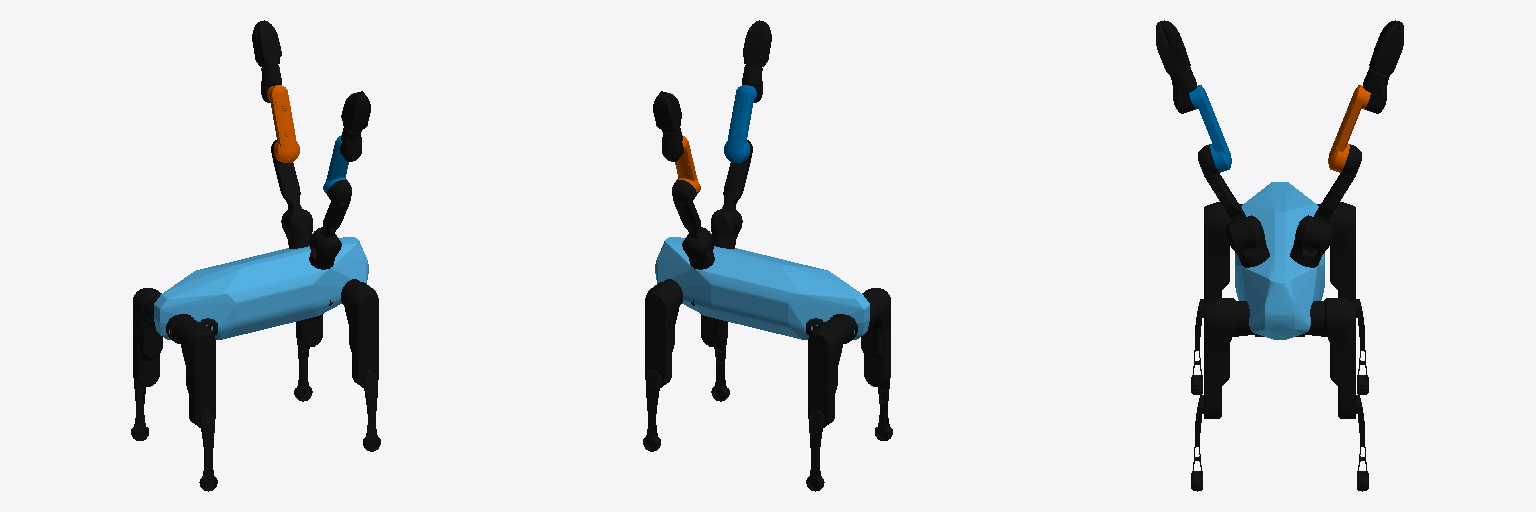
--- Render facts (derived) ---
3 views of the same robot in one strip: view 1: azimuth 30°, elevation 25°; view 2: azimuth 150°, elevation 25°; view 3: azimuth 270°, elevation 25° (orthographic).
Robot: kyon — 34 links, 33 joints (24 revolute, 8 fixed, 1 floating); root link world; default pose: every joint at zero.
Links seen in each view (by area): view 1: pelvis, hip_pitch_4_link, hip_pitch_2_link, hip_pitch_3_link, elbow_pitch_1_link, shoulder_pitch_2_link, shoulder_pitch_1_link, knee_pitch_4_link, knee_pitch_2_link, shoulder_yaw_1_link, shoulder_yaw_2_link, dagana_2_base (+5 smaller); view 2: pelvis, hip_pitch_3_link, hip_pitch_1_link, hip_pitch_4_link, elbow_pitch_2_link, shoulder_pitch_1_link, shoulder_pitch_2_link, knee_pitch_3_link, knee_pitch_1_link, shoulder_yaw_2_link, dagana_1_base, shoulder_yaw_1_link (+5 smaller); view 3: pelvis, hip_pitch_1_link, hip_pitch_2_link, hip_pitch_3_link, hip_pitch_4_link, shoulder_pitch_1_link, shoulder_pitch_2_link, elbow_pitch_1_link, elbow_pitch_2_link, shoulder_yaw_2_link, shoulder_yaw_1_link, dagana_2_base (+9 smaller).
Link boxes in pixels (box(x1,y1,x2,y2)): pelvis: box(154, 237, 368, 339); hip_pitch_4_link: box(172, 316, 215, 427); hip_pitch_2_link: box(341, 279, 378, 387); hip_pitch_3_link: box(133, 288, 162, 386); elbow_pitch_1_link: box(267, 85, 299, 162); shoulder_pitch_2_link: box(311, 180, 351, 251); shoulder_pitch_1_link: box(271, 140, 301, 233); knee_pitch_4_link: box(199, 410, 217, 491); knee_pitch_2_link: box(363, 370, 380, 451); shoulder_yaw_1_link: box(281, 209, 312, 248); shoulder_yaw_2_link: box(309, 227, 341, 269); dagana_2_base: box(343, 93, 370, 132); pelvis: box(655, 237, 869, 339); hip_pitch_3_link: box(808, 316, 851, 427); hip_pitch_1_link: box(645, 279, 682, 387); hip_pitch_4_link: box(861, 288, 890, 386); elbow_pitch_2_link: box(724, 85, 756, 162); shoulder_pitch_1_link: box(672, 180, 712, 251); shoulder_pitch_2_link: box(722, 140, 752, 233); knee_pitch_3_link: box(806, 410, 824, 491); knee_pitch_1_link: box(643, 370, 660, 451); shoulder_yaw_2_link: box(711, 209, 742, 248); dagana_1_base: box(653, 93, 680, 132); shoulder_yaw_1_link: box(682, 227, 714, 269); pelvis: box(1235, 182, 1324, 339); hip_pitch_1_link: box(1305, 298, 1355, 418); hip_pitch_2_link: box(1204, 298, 1254, 418); hip_pitch_3_link: box(1317, 202, 1355, 302); hip_pitch_4_link: box(1204, 202, 1242, 302); shoulder_pitch_1_link: box(1304, 144, 1361, 250); shoulder_pitch_2_link: box(1198, 144, 1255, 250); elbow_pitch_1_link: box(1328, 85, 1370, 172); elbow_pitch_2_link: box(1189, 85, 1231, 172); shoulder_yaw_2_link: box(1226, 215, 1269, 267); shoulder_yaw_1_link: box(1290, 215, 1333, 267); dagana_2_base: box(1156, 21, 1190, 74).
Bounding box of the posed robot: 1.04 × 0.8987 × 1.8 m (x, y, z).
27 mesh visuals loaded from 11 distinct referenced files (11 binary STL).

The robot description file, URDF, robot "kyon":
<?xml version="1.0" ?>
<robot name="kyon" version="1.0">
  <material name="black">
    <color rgba="0.4 0.4 0.4 1.0"/>
  </material>
  <material name="dark_grey">
    <color rgba="0.1 0.1 0.1 1.0"/>
  </material>
  <link name="base_link"/>
  <link name="pelvis">
    <inertial>
      <origin xyz="0.04972368 0.0022995169 0.058657543" rpy="0 0 0"/>
      <mass value="23.024083"/>
      <inertia ixx="0.25825843" ixy="-0.0015196886" ixz="-0.074270479" iyy="1.2128223" iyz="0.0039226759" izz="1.1693352"/>
    </inertial>
    <visual>
      <origin xyz="0.0 0.0 0.0" rpy="0.0 0.0 0.0"/>
      <geometry>
        <mesh filename="package://kyon_urdf/meshes/mesh_pelvis.stl" scale="0.001 0.001 0.001"/>
      </geometry>
    </visual>
    <collision>
      <origin xyz="0.036495 -9.9371885e-12 0.046774" rpy="1.5707938937123678 1.57079632676973 1.5707938936872012"/>
      <geometry>
        <cylinder radius="0.1724" length="0.749376"/>
      </geometry>
    </collision>
    <collision>
      <origin xyz="-0.338193 -0.000000 0.046774" rpy="1.5707938937123678 1.57079632676973 1.5707938936872012"/>
      <geometry>
        <sphere radius="0.1724"/>
      </geometry>
    </collision>
    <collision>
      <origin xyz="0.411183 -0.000000 0.046774" rpy="1.5707938937123678 1.57079632676973 1.5707938936872012"/>
      <geometry>
        <sphere radius="0.1724"/>
      </geometry>
    </collision>
  </link>
  <joint name="base_joint" type="fixed">
    <origin xyz="0.0 0.0 0.0" rpy="0.0 0.0 0.0"/>
    <parent link="pelvis"/>
    <child link="base_link"/>
  </joint>
  <link name="imu_link"/>
  <joint name="imu_joint" type="fixed">
    <parent link="pelvis"/>
    <child link="imu_link"/>
  </joint>
  <link name="shoulder_yaw_1_link">
    <inertial>
      <origin xyz="0.0 -0.00013492411000000002 0.040858984" rpy="0 0 0"/>
      <mass value="0.67826074"/>
      <inertia ixx="0.0025001498999999996" ixy="-6.3655528e-07" ixz="1.7271058999999999e-07" iyy="0.0019131558999999998" iyz="-6.5053652e-05" izz="0.0019311455"/>
    </inertial>
    <visual>
      <origin xyz="0.0 0.0 0.0" rpy="0.0 0.0 0.0"/>
      <geometry>
        <mesh filename="package://kyon_urdf/meshes/mesh_sh-yaw.stl" scale="0.001 0.001 0.001"/>
      </geometry>
      <material name="dark_grey"/>
    </visual>
    <collision>
      <origin xyz="-5.492399499999999e-07 4.861649999999999e-07 0.04019508" rpy="-4.947440300471886e-05 -1.7225007626453456e-05 4.260984722894379e-10"/>
      <geometry>
        <cylinder radius="0.0700029" length="0.06680404009166907"/>
      </geometry>
    </collision>
    <collision>
      <origin xyz="0.000000 -0.000001 0.006793" rpy="-4.947440300471886e-05 -1.7225007626453456e-05 4.260984722894379e-10"/>
      <geometry>
        <sphere radius="0.0700029"/>
      </geometry>
    </collision>
    <collision>
      <origin xyz="-0.000001 0.000002 0.073597" rpy="-4.947440300471886e-05 -1.7225007626453456e-05 4.260984722894379e-10"/>
      <geometry>
        <sphere radius="0.0700029"/>
      </geometry>
    </collision>
  </link>
  <link name="shoulder_pitch_1_link">
    <inertial>
      <origin xyz="-8.821274800000001e-06 -0.14226587000000002 -0.0040603042" rpy="0 0 0"/>
      <mass value="2.6591536"/>
      <inertia ixx="0.059933923" ixy="0.00010630782" ixz="-8.1788344e-06" iyy="0.0032807638999999998" iyz="-0.001092533" izz="0.059801167999999995"/>
    </inertial>
    <visual>
      <geometry>
        <mesh filename="package://kyon_urdf/meshes/mesh_sh-pitch.stl" scale="0.001 0.001 0.001"/>
      </geometry>
      <material name="dark_grey"/>
    </visual>
    <collision>
      <origin xyz="-0.0001338083 -0.16096802 -0.0150617865" rpy="-1.4774154254758183 0.0007278208153013942 -0.0006628428816718759"/>
      <geometry>
        <cylinder radius="0.0630719" length="0.3306767492610326"/>
      </geometry>
    </collision>
    <collision>
      <origin xyz="-0.000254 -0.325586 -0.030479" rpy="-1.4774154254758183 0.0007278208153013942 -0.0006628428816718759"/>
      <geometry>
        <sphere radius="0.0630719"/>
      </geometry>
    </collision>
    <collision>
      <origin xyz="-0.000013 0.003650 0.000355" rpy="-1.4774154254758183 0.0007278208153013942 -0.0006628428816718759"/>
      <geometry>
        <sphere radius="0.0630719"/>
      </geometry>
    </collision>
  </link>
  <link name="elbow_pitch_1_link">
    <inertial>
      <origin xyz="-0.00032761312 -0.16511035000000002 0.022799378000000002" rpy="0 0 0"/>
      <mass value="1.048477"/>
      <inertia ixx="0.01112601" ixy="1.7724864e-05" ixz="6.0670899e-06" iyy="0.00095730481" iyz="-0.0010167295" izz="0.011293245999999998"/>
    </inertial>
    <visual>
      <geometry>
        <mesh filename="package://kyon_urdf/meshes/mesh_elbow.stl" scale="0.001 0.001 0.001"/>
      </geometry>
    </visual>
    <collision>
      <origin xyz="-2.68263705e-05 -0.1179632115 0.0225949" rpy="-1.5990064958055321 0.00022367745177041834 -0.00023007813712669646"/>
      <geometry>
        <cylinder radius="0.0581584" length="0.23685382242349062"/>
      </geometry>
    </collision>
    <collision>
      <origin xyz="-0.000053 -0.236343 0.025935" rpy="-1.5990064958055321 0.00022367745177041834 -0.00023007813712669646"/>
      <geometry>
        <sphere radius="0.0581584"/>
      </geometry>
    </collision>
    <collision>
      <origin xyz="-0.000000 0.000417 0.019255" rpy="-1.5990064958055321 0.00022367745177041834 -0.00023007813712669646"/>
      <geometry>
        <sphere radius="0.0581584"/>
      </geometry>
    </collision>
  </link>
  <link name="wrist_pitch_1_link">
    <inertial>
      <origin xyz="-0.00035889305999999997 -0.056046555 -0.010441123" rpy="0 0 0"/>
      <mass value="0.8276976"/>
      <inertia ixx="0.001897925" ixy="1.5812979999999998e-05" ixz="-8.8320155e-06" iyy="0.0007269340299999999" iyz="0.00044823507999999996" izz="0.0018533680999999998"/>
    </inertial>
    <visual>
      <origin xyz="0.0 0.0 0.0" rpy="0.0 0.0 0.0"/>
      <geometry>
        <mesh filename="package://kyon_urdf/meshes/mesh_wrist-pitch.stl" scale="0.001 0.001 0.001"/>
      </geometry>
      <material name="dark_grey"/>
    </visual>
    <collision>
      <origin xyz="-0.000373288 -0.030631244999999998 -0.016904745000000002" rpy="-1.98241981064189 0.012883685622594544 -0.01968208172315333"/>
      <geometry>
        <cylinder radius="0.0522867" length="0.07557658310998112"/>
      </geometry>
    </collision>
    <collision>
      <origin xyz="-0.000860 -0.065260 -0.001787" rpy="-1.98241981064189 0.012883685622594544 -0.01968208172315333"/>
      <geometry>
        <sphere radius="0.0522867"/>
      </geometry>
    </collision>
    <collision>
      <origin xyz="0.000114 0.003998 -0.032023" rpy="-1.98241981064189 0.012883685622594544 -0.01968208172315333"/>
      <geometry>
        <sphere radius="0.0522867"/>
      </geometry>
    </collision>
  </link>
  <link name="wrist_yaw_1_link">
    <inertial>
      <origin xyz="0.0 -1.8381848999999998e-05 -0.016592053" rpy="0 0 0"/>
      <mass value="0.11855953"/>
      <inertia ixx="7.048152500000001e-05" ixy="-1.3031027e-07" ixz="0.0" iyy="7.3847541e-05" iyz="-2.5372644999999998e-08" izz="0.00011802904"/>
    </inertial>
    <visual>
      <origin xyz="0.0 0.0 0.0" rpy="0.0 0.0 0.0"/>
      <geometry>
        <mesh filename="package://kyon_urdf/meshes/mesh_wrist-yaw.stl" scale="0.001 0.001 0.001"/>
      </geometry>
      <material name="dark_grey"/>
    </visual>
    <collision>
      <origin xyz="1.3702194349999999e-08 4.8836499999999985e-06 -0.025233600000000002" rpy="-0.5623737361912293 -0.0001795536403534608 5.186223272198067e-05"/>
      <geometry>
        <cylinder radius="0.0436334" length="0.00015248374465266922"/>
      </geometry>
    </collision>
    <collision>
      <origin xyz="0.000000 -0.000036 -0.025298" rpy="-0.5623737361912293 -0.0001795536403534608 5.186223272198067e-05"/>
      <geometry>
        <sphere radius="0.0436334"/>
      </geometry>
    </collision>
    <collision>
      <origin xyz="0.000000 0.000046 -0.025169" rpy="-0.5623737361912293 -0.0001795536403534608 5.186223272198067e-05"/>
      <geometry>
        <sphere radius="0.0436334"/>
      </geometry>
    </collision>
  </link>
  <joint name="shoulder_yaw_1" type="revolute">
    <origin xyz="0.28 0.0998258 0.203238" rpy="-0.3490656 0.0 0.0"/>
    <axis xyz="0.0 0.0 1.0"/>
    <parent link="pelvis"/>
    <child link="shoulder_yaw_1_link"/>
    <limit effort="132.0" lower="-3.312" upper="3.312" velocity="15.5"/>
  </joint>
  <joint name="shoulder_pitch_1" type="revolute">
    <origin xyz="0.0 0.0 0.0735" rpy="-1.57079632679 0.0 -3.14159265358"/>
    <axis xyz="0.0 0.0 1.0"/>
    <parent link="shoulder_yaw_1_link"/>
    <child link="shoulder_pitch_1_link"/>
    <limit effort="132.0" lower="-3.0" upper="3.0" velocity="15.5"/>
  </joint>
  <joint name="elbow_pitch_1" type="revolute">
    <origin xyz="0.0 -0.32 0.0" rpy="0.0 0.0 0.0"/>
    <axis xyz="0.0 0.0 1.0"/>
    <parent link="shoulder_pitch_1_link"/>
    <child link="elbow_pitch_1_link"/>
    <limit effort="132.0" lower="-3.0" upper="3.0" velocity="15.5"/>
  </joint>
  <joint name="wrist_pitch_1" type="revolute">
    <origin xyz="0.0 -0.25 0.0" rpy="0.0 0.0 0.0"/>
    <axis xyz="0.0 0.0 1.0"/>
    <parent link="elbow_pitch_1_link"/>
    <child link="wrist_pitch_1_link"/>
    <limit effort="132.0" lower="-2.4056" upper="2.4056" velocity="15.5"/>
  </joint>
  <joint name="wrist_yaw_1" type="revolute">
    <origin xyz="0.0 -0.134862 0.0" rpy="1.57079632679 0.0 0.0"/>
    <axis xyz="0.0 0.0 1.0"/>
    <parent link="wrist_pitch_1_link"/>
    <child link="wrist_yaw_1_link"/>
    <limit effort="132.0" lower="-2.4056" upper="2.4056" velocity="15.5"/>
  </joint>
  <link name="dagana_1_base">
    <inertial>
      <origin xyz="-0.004224466600000001 -0.0027238215 0.053670845" rpy="0 0 0"/>
      <mass value="0.96534359"/>
      <inertia ixx="0.0020957096" ixy="-6.455410899999999e-05" ixz="4.4955880999999996e-05" iyy="0.0021216529" iyz="0.00037094612999999995" izz="0.0011572224"/>
    </inertial>
    <visual>
      <origin xyz="0.0 0.0 0.0" rpy="0.0 0.0 0.0"/>
      <geometry>
        <mesh filename="package://kyon_urdf/meshes/mesh_dagana-base.stl" scale="0.001 0.001 0.001"/>
      </geometry>
      <material name="dark_grey"/>
    </visual>
    <collision>
      <origin xyz="8.199665e-05 -0.006839825 0.0836978" rpy="0.09739184625005773 0.000866276344920736 4.2217504228679785e-05"/>
      <geometry>
        <cylinder radius="0.0591263" length="0.11025894047123985"/>
      </geometry>
    </collision>
    <collision>
      <origin xyz="0.000034 -0.001479 0.028830" rpy="0.09739184625005773 0.000866276344920736 4.2217504228679785e-05"/>
      <geometry>
        <sphere radius="0.0591263"/>
      </geometry>
    </collision>
    <collision>
      <origin xyz="0.000130 -0.012200 0.138566" rpy="0.09739184625005773 0.000866276344920736 4.2217504228679785e-05"/>
      <geometry>
        <sphere radius="0.0591263"/>
      </geometry>
    </collision>
  </link>
  <link name="dagana_1_claw">
    <inertial>
      <origin xyz="-0.0516203 0.0080601187 -0.037212096" rpy="0 0 0"/>
      <mass value="0.25739835"/>
      <inertia ixx="0.00029169897" ixy="8.3015178e-06" ixz="1.3355847e-05" iyy="0.00073268589" iyz="-2.1083033000000003e-06" izz="0.00051112938"/>
    </inertial>
    <visual>
      <origin xyz="0.0 0.0 0.0" rpy="0.0 0.0 0.0"/>
      <geometry>
        <mesh filename="package://kyon_urdf/meshes/mesh_dagana-clamp.stl" scale="0.001 0.001 0.001"/>
      </geometry>
      <material name="dark_grey"/>
    </visual>
    <collision>
      <origin xyz="-0.049280145 0.0025561425 -0.036754300000000004" rpy="1.9413381484307177 1.5208180726646339 1.8943252255817271"/>
      <geometry>
        <cylinder radius="0.0524951" length="0.10583385976657057"/>
      </geometry>
    </collision>
    <collision>
      <origin xyz="-0.102131 0.005020 -0.035797" rpy="1.9413381484307177 1.5208180726646339 1.8943252255817271"/>
      <geometry>
        <sphere radius="0.0524951"/>
      </geometry>
    </collision>
    <collision>
      <origin xyz="0.003571 0.000092 -0.037712" rpy="1.9413381484307177 1.5208180726646339 1.8943252255817271"/>
      <geometry>
        <sphere radius="0.0524951"/>
      </geometry>
    </collision>
  </link>
  <joint name="dagana_1_base_joint" type="fixed">
    <origin xyz="0.0 0.0 0.0" rpy="0.0 0.0 0.0"/>
    <parent link="wrist_yaw_1_link"/>
    <child link="dagana_1_base"/>
  </joint>
  <joint name="dagana_1_clamp_joint" type="revolute">
    <origin xyz="0.0361625 0.016 0.044" rpy="0.0 1.57079632679 0.0"/>
    <axis xyz="0.0 0.0 1.0"/>
    <parent link="dagana_1_base"/>
    <child link="dagana_1_claw"/>
    <limit effort="132.0" lower="-3.4056" upper="3.4056" velocity="15.5"/>
  </joint>
  <link name="shoulder_yaw_2_link">
    <inertial>
      <origin xyz="0.0 -0.00013492411000000002 0.040858984" rpy="0 0 0"/>
      <mass value="0.67826074"/>
      <inertia ixx="0.0025001498999999996" ixy="-6.3655528e-07" ixz="1.7271058999999999e-07" iyy="0.0019131558999999998" iyz="-6.5053652e-05" izz="0.0019311455"/>
    </inertial>
    <visual>
      <origin xyz="0.0 0.0 0.0" rpy="0.0 0.0 0.0"/>
      <geometry>
        <mesh filename="package://kyon_urdf/meshes/mesh_sh-yaw.stl" scale="0.001 0.001 0.001"/>
      </geometry>
      <material name="dark_grey"/>
    </visual>
    <collision>
      <origin xyz="-5.492399499999999e-07 4.861649999999999e-07 0.04019508" rpy="-4.947440300471886e-05 -1.7225007626453456e-05 4.260984722894379e-10"/>
      <geometry>
        <cylinder radius="0.0700029" length="0.06680404009166907"/>
      </geometry>
    </collision>
    <collision>
      <origin xyz="0.000000 -0.000001 0.006793" rpy="-4.947440300471886e-05 -1.7225007626453456e-05 4.260984722894379e-10"/>
      <geometry>
        <sphere radius="0.0700029"/>
      </geometry>
    </collision>
    <collision>
      <origin xyz="-0.000001 0.000002 0.073597" rpy="-4.947440300471886e-05 -1.7225007626453456e-05 4.260984722894379e-10"/>
      <geometry>
        <sphere radius="0.0700029"/>
      </geometry>
    </collision>
  </link>
  <link name="shoulder_pitch_2_link">
    <inertial>
      <origin xyz="-8.821274800000001e-06 -0.14226587000000002 -0.0040603042" rpy="0 0 0"/>
      <mass value="2.6591536"/>
      <inertia ixx="0.059933923" ixy="0.00010630782" ixz="-8.1788344e-06" iyy="0.0032807638999999998" iyz="-0.001092533" izz="0.059801167999999995"/>
    </inertial>
    <visual>
      <geometry>
        <mesh filename="package://kyon_urdf/meshes/mesh_sh-pitch.stl" scale="0.001 0.001 0.001"/>
      </geometry>
      <material name="dark_grey"/>
    </visual>
    <collision>
      <origin xyz="-0.0001338083 -0.16096802 -0.0150617865" rpy="-1.4774154254758183 0.0007278208153013942 -0.0006628428816718759"/>
      <geometry>
        <cylinder radius="0.0630719" length="0.3306767492610326"/>
      </geometry>
    </collision>
    <collision>
      <origin xyz="-0.000254 -0.325586 -0.030479" rpy="-1.4774154254758183 0.0007278208153013942 -0.0006628428816718759"/>
      <geometry>
        <sphere radius="0.0630719"/>
      </geometry>
    </collision>
    <collision>
      <origin xyz="-0.000013 0.003650 0.000355" rpy="-1.4774154254758183 0.0007278208153013942 -0.0006628428816718759"/>
      <geometry>
        <sphere radius="0.0630719"/>
      </geometry>
    </collision>
  </link>
  <link name="elbow_pitch_2_link">
    <inertial>
      <origin xyz="-0.00032761312 -0.16511035000000002 0.022799378000000002" rpy="0 0 0"/>
      <mass value="1.048477"/>
      <inertia ixx="0.01112601" ixy="1.7724864e-05" ixz="6.0670899e-06" iyy="0.00095730481" iyz="-0.0010167295" izz="0.011293245999999998"/>
    </inertial>
    <visual>
      <geometry>
        <mesh filename="package://kyon_urdf/meshes/mesh_elbow.stl" scale="0.001 0.001 0.001"/>
      </geometry>
    </visual>
    <collision>
      <origin xyz="-2.68263705e-05 -0.1179632115 0.0225949" rpy="-1.5990064958055321 0.00022367745177041834 -0.00023007813712669646"/>
      <geometry>
        <cylinder radius="0.0581584" length="0.23685382242349062"/>
      </geometry>
    </collision>
    <collision>
      <origin xyz="-0.000053 -0.236343 0.025935" rpy="-1.5990064958055321 0.00022367745177041834 -0.00023007813712669646"/>
      <geometry>
        <sphere radius="0.0581584"/>
      </geometry>
    </collision>
    <collision>
      <origin xyz="-0.000000 0.000417 0.019255" rpy="-1.5990064958055321 0.00022367745177041834 -0.00023007813712669646"/>
      <geometry>
        <sphere radius="0.0581584"/>
      </geometry>
    </collision>
  </link>
  <link name="wrist_pitch_2_link">
    <inertial>
      <origin xyz="-0.00035889305999999997 -0.056046555 -0.010441123" rpy="0 0 0"/>
      <mass value="0.8276976"/>
      <inertia ixx="0.001897925" ixy="1.5812979999999998e-05" ixz="-8.8320155e-06" iyy="0.0007269340299999999" iyz="0.00044823507999999996" izz="0.0018533680999999998"/>
    </inertial>
    <visual>
      <origin xyz="0.0 0.0 0.0" rpy="0.0 0.0 0.0"/>
      <geometry>
        <mesh filename="package://kyon_urdf/meshes/mesh_wrist-pitch.stl" scale="0.001 0.001 0.001"/>
      </geometry>
      <material name="dark_grey"/>
    </visual>
    <collision>
      <origin xyz="-0.000373288 -0.030631244999999998 -0.016904745000000002" rpy="-1.98241981064189 0.012883685622594544 -0.01968208172315333"/>
      <geometry>
        <cylinder radius="0.0522867" length="0.07557658310998112"/>
      </geometry>
    </collision>
    <collision>
      <origin xyz="-0.000860 -0.065260 -0.001787" rpy="-1.98241981064189 0.012883685622594544 -0.01968208172315333"/>
      <geometry>
        <sphere radius="0.0522867"/>
      </geometry>
    </collision>
    <collision>
      <origin xyz="0.000114 0.003998 -0.032023" rpy="-1.98241981064189 0.012883685622594544 -0.01968208172315333"/>
      <geometry>
        <sphere radius="0.0522867"/>
      </geometry>
    </collision>
  </link>
  <link name="wrist_yaw_2_link">
    <inertial>
      <origin xyz="0.0 -1.8381848999999998e-05 -0.016592053" rpy="0 0 0"/>
      <mass value="0.11855953"/>
      <inertia ixx="7.048152500000001e-05" ixy="-1.3031027e-07" ixz="0.0" iyy="7.3847541e-05" iyz="-2.5372644999999998e-08" izz="0.00011802904"/>
    </inertial>
    <visual>
      <origin xyz="0.0 0.0 0.0" rpy="0.0 0.0 0.0"/>
      <geometry>
        <mesh filename="package://kyon_urdf/meshes/mesh_wrist-yaw.stl" scale="0.001 0.001 0.001"/>
      </geometry>
      <material name="dark_grey"/>
    </visual>
    <collision>
      <origin xyz="1.3702194349999999e-08 4.8836499999999985e-06 -0.025233600000000002" rpy="-0.5623737361912293 -0.0001795536403534608 5.186223272198067e-05"/>
      <geometry>
        <cylinder radius="0.0436334" length="0.00015248374465266922"/>
      </geometry>
    </collision>
    <collision>
      <origin xyz="0.000000 -0.000036 -0.025298" rpy="-0.5623737361912293 -0.0001795536403534608 5.186223272198067e-05"/>
      <geometry>
        <sphere radius="0.0436334"/>
      </geometry>
    </collision>
    <collision>
      <origin xyz="0.000000 0.000046 -0.025169" rpy="-0.5623737361912293 -0.0001795536403534608 5.186223272198067e-05"/>
      <geometry>
        <sphere radius="0.0436334"/>
      </geometry>
    </collision>
  </link>
  <joint name="shoulder_yaw_2" type="revolute">
    <origin xyz="0.28 -0.0998258 0.203238" rpy="0.3490656 0.0 0.0"/>
    <axis xyz="0.0 0.0 1.0"/>
    <parent link="pelvis"/>
    <child link="shoulder_yaw_2_link"/>
    <limit effort="132.0" lower="-3.3458" upper="3.3458" velocity="15.5"/>
  </joint>
  <joint name="shoulder_pitch_2" type="revolute">
    <origin xyz="0.0 0.0 0.0735" rpy="-1.57079632679 0.0 0.0"/>
    <axis xyz="0.0 0.0 1.0"/>
    <parent link="shoulder_yaw_2_link"/>
    <child link="shoulder_pitch_2_link"/>
    <limit effort="132.0" lower="-3.0" upper="3.0" velocity="15.5"/>
  </joint>
  <joint name="elbow_pitch_2" type="revolute">
    <origin xyz="0.0 -0.32 0.0" rpy="0.0 0.0 0.0"/>
    <axis xyz="0.0 0.0 1.0"/>
    <parent link="shoulder_pitch_2_link"/>
    <child link="elbow_pitch_2_link"/>
    <limit effort="132.0" lower="-3.0" upper="3.0" velocity="15.5"/>
  </joint>
  <joint name="wrist_pitch_2" type="revolute">
    <origin xyz="0.0 -0.25 0.0" rpy="0.0 0.0 0.0"/>
    <axis xyz="0.0 0.0 1.0"/>
    <parent link="elbow_pitch_2_link"/>
    <child link="wrist_pitch_2_link"/>
    <limit effort="132.0" lower="-2.3266" upper="2.3266" velocity="15.5"/>
  </joint>
  <joint name="wrist_yaw_2" type="revolute">
    <origin xyz="0.0 -0.134862 0.0" rpy="1.57079632679 0.0 0.0"/>
    <axis xyz="0.0 0.0 1.0"/>
    <parent link="wrist_pitch_2_link"/>
    <child link="wrist_yaw_2_link"/>
    <limit effort="132.0" lower="-2.3266" upper="2.3266" velocity="15.5"/>
  </joint>
  <link name="dagana_2_base">
    <inertial>
      <origin xyz="-0.004224466600000001 -0.0027238215 0.053670845" rpy="0 0 0"/>
      <mass value="0.96534359"/>
      <inertia ixx="0.0020957096" ixy="-6.455410899999999e-05" ixz="4.4955880999999996e-05" iyy="0.0021216529" iyz="0.00037094612999999995" izz="0.0011572224"/>
    </inertial>
    <visual>
      <origin xyz="0.0 0.0 0.0" rpy="0.0 0.0 0.0"/>
      <geometry>
        <mesh filename="package://kyon_urdf/meshes/mesh_dagana-base.stl" scale="0.001 0.001 0.001"/>
      </geometry>
      <material name="dark_grey"/>
    </visual>
    <collision>
      <origin xyz="8.199665e-05 -0.006839825 0.0836978" rpy="0.09739184625005773 0.000866276344920736 4.2217504228679785e-05"/>
      <geometry>
        <cylinder radius="0.0591263" length="0.11025894047123985"/>
      </geometry>
    </collision>
    <collision>
      <origin xyz="0.000034 -0.001479 0.028830" rpy="0.09739184625005773 0.000866276344920736 4.2217504228679785e-05"/>
      <geometry>
        <sphere radius="0.0591263"/>
      </geometry>
    </collision>
    <collision>
      <origin xyz="0.000130 -0.012200 0.138566" rpy="0.09739184625005773 0.000866276344920736 4.2217504228679785e-05"/>
      <geometry>
        <sphere radius="0.0591263"/>
      </geometry>
    </collision>
  </link>
  <link name="dagana_2_claw">
    <inertial>
      <origin xyz="-0.0516203 0.0080601187 -0.037212096" rpy="0 0 0"/>
      <mass value="0.25739835"/>
      <inertia ixx="0.00029169897" ixy="8.3015178e-06" ixz="1.3355847e-05" iyy="0.00073268589" iyz="-2.1083033000000003e-06" izz="0.00051112938"/>
    </inertial>
    <visual>
      <origin xyz="0.0 0.0 0.0" rpy="0.0 0.0 0.0"/>
      <geometry>
        <mesh filename="package://kyon_urdf/meshes/mesh_dagana-clamp.stl" scale="0.001 0.001 0.001"/>
      </geometry>
      <material name="dark_grey"/>
    </visual>
    <collision>
      <origin xyz="-0.049280145 0.0025561425 -0.036754300000000004" rpy="1.9413381484307177 1.5208180726646339 1.8943252255817271"/>
      <geometry>
        <cylinder radius="0.0524951" length="0.10583385976657057"/>
      </geometry>
    </collision>
    <collision>
      <origin xyz="-0.102131 0.005020 -0.035797" rpy="1.9413381484307177 1.5208180726646339 1.8943252255817271"/>
      <geometry>
        <sphere radius="0.0524951"/>
      </geometry>
    </collision>
    <collision>
      <origin xyz="0.003571 0.000092 -0.037712" rpy="1.9413381484307177 1.5208180726646339 1.8943252255817271"/>
      <geometry>
        <sphere radius="0.0524951"/>
      </geometry>
    </collision>
  </link>
  <joint name="dagana_2_base_joint" type="fixed">
    <origin xyz="0.0 0.0 0.0" rpy="0.0 0.0 0.0"/>
    <parent link="wrist_yaw_2_link"/>
    <child link="dagana_2_base"/>
  </joint>
  <joint name="dagana_2_clamp_joint" type="revolute">
    <origin xyz="0.0361625 0.016 0.044" rpy="0.0 1.57079632679 0.0"/>
    <axis xyz="0.0 0.0 1.0"/>
    <parent link="dagana_2_base"/>
    <child link="dagana_2_claw"/>
    <limit effort="132.0" lower="-3.3266" upper="3.3266" velocity="15.5"/>
  </joint>
  <link name="hip_roll_1_link">
    <inertial>
      <origin xyz="-0.00048748556 0.006340927 -0.11484611" rpy="0 0 0"/>
      <mass value="2.7479472"/>
      <inertia ixx="0.014719608" ixy="1.1262382e-05" ixz="3.2414002000000004e-05" iyy="0.014797972999999999" iyz="0.0017237369" izz="0.0049076886000000005"/>
    </inertial>
    <visual>
      <origin xyz="0.0 0.0 0.0" rpy="0.0 0.0 0.0"/>
      <geometry>
        <mesh filename="package://kyon_urdf/meshes/mesh_hip-roll.stl" scale="0.001 -0.001 0.001"/>
      </geometry>
      <material name="dark_grey"/>
    </visual>
    <collision>
      <origin xyz="-1.1489703999999999e-05 -0.010964129999999999 -0.05126425" rpy="0.18524516667397833 -0.00015503217023414293 -1.4400684591584316e-05"/>
      <geometry>
        <cylinder radius="0.0763481" length="0.14024696973705567"/>
      </geometry>
    </collision>
    <collision>
      <origin xyz="-0.000001 0.001952 -0.120188" rpy="0.18524516667397833 -0.00015503217023414293 -1.4400684591584316e-05"/>
      <geometry>
        <sphere radius="0.0763481"/>
      </geometry>
    </collision>
    <collision>
      <origin xyz="-0.000022 -0.023880 0.017660" rpy="0.18524516667397833 -0.00015503217023414293 -1.4400684591584316e-05"/>
      <geometry>
        <sphere radius="0.0763481"/>
      </geometry>
    </collision>
  </link>
  <link name="hip_pitch_1_link">
    <inertial>
      <origin xyz="6.4486994e-05 -0.07812755900000001 0.14684759" rpy="0 0 0"/>
      <mass value="6.6449096"/>
      <inertia ixx="0.12473066999999999" ixy="-0.00067511845" ixz="-5.384152799999999e-05" iyy="0.034322669" iyz="0.028582838" izz="0.10356313"/>
    </inertial>
    <visual>
      <origin xyz="0.0 0.0 0.0" rpy="0.0 0.0 0.0"/>
      <geometry>
        <mesh filename="package://kyon_urdf/meshes/mesh_hip-pitch.stl" scale="0.001 0.001 0.001"/>
      </geometry>
      <material name="dark_grey"/>
    </visual>
    <collision>
      <origin xyz="-3.8061e-07 -0.14606180885 0.180727" rpy="1.3362939787236954 -3.8319729173634345e-06 -3.0243559193574446e-06"/>
      <geometry>
        <cylinder radius="0.110589" length="0.3004661110170414"/>
      </geometry>
    </collision>
    <collision>
      <origin xyz="0.000000 0.000059 0.145819" rpy="1.3362939787236954 -3.8319729173634345e-06 -3.0243559193574446e-06"/>
      <geometry>
        <sphere radius="0.110589"/>
      </geometry>
    </collision>
    <collision>
      <origin xyz="-0.000001 -0.292183 0.215635" rpy="1.3362939787236954 -3.8319729173634345e-06 -3.0243559193574446e-06"/>
      <geometry>
        <sphere radius="0.110589"/>
      </geometry>
    </collision>
  </link>
  <joint name="hip_roll_1" type="revolute">
    <origin xyz="0.41100000000000003 0.0775 0.0" rpy="0.0 1.57079632679 0.0"/>
    <axis xyz="0.0 0.0 1.0"/>
    <parent link="pelvis"/>
    <child link="hip_roll_1_link"/>
    <limit effort="132.0" lower="-2.03" upper="2.51" velocity="15.5"/>
  </joint>
  <joint name="hip_pitch_1" type="revolute">
    <origin xyz="0.0 -0.04746 0.0" rpy="0.0 1.57079632679 1.57079632679"/>
    <axis xyz="0.0 0.0 1.0"/>
    <parent link="hip_roll_1_link"/>
    <child link="hip_pitch_1_link"/>
    <limit effort="132.0" lower="-2.4056" upper="2.4056" velocity="15.5"/>
  </joint>
  <link name="knee_pitch_1_link">
    <inertial>
      <origin xyz="5.1193011000000004e-06 -0.10291594999999999 -0.0012895495" rpy="0 0 0"/>
      <mass value="0.70900216"/>
      <inertia ixx="0.012517512" ixy="5.4385779e-07" ixz="-1.4538899e-07" iyy="0.00080474409" iyz="0.001744629" izz="0.01230702"/>
    </inertial>
    <visual>
      <origin xyz="0.0 0.0 0.0" rpy="0.0 0.0 0.0"/>
      <geometry>
        <mesh filename="package://kyon_urdf/meshes/mesh_foot-leg.stl" scale="-0.001 0.001 0.001"/>
      </geometry>
      <material name="dark_grey"/>
    </visual>
    <collision>
      <origin xyz="-1.557224e-05 -0.158173015 0.016939799999999998" rpy="1.5339543771153108 0.00011824965830571266 0.00011397143546565672"/>
      <geometry>
        <cylinder radius="0.0400971" length="0.3150057312682306"/>
      </geometry>
    </collision>
    <collision>
      <origin xyz="-0.000034 -0.000777 0.011138" rpy="1.5339543771153108 0.00011824965830571266 0.00011397143546565672"/>
      <geometry>
        <sphere radius="0.0400971"/>
      </geometry>
    </collision>
    <collision>
      <origin xyz="0.000003 -0.315569 0.022741" rpy="1.5339543771153108 0.00011824965830571266 0.00011397143546565672"/>
      <geometry>
        <sphere radius="0.0400971"/>
      </geometry>
    </collision>
  </link>
  <joint name="knee_pitch_1" type="revolute">
    <origin xyz="0.0 -0.34600000000000003 0.24606" rpy="0.0 0.0 0.0"/>
    <axis xyz="0.0 0.0 1.0"/>
    <parent link="hip_pitch_1_link"/>
    <child link="knee_pitch_1_link"/>
    <limit effort="132.0" lower="-3.4056" upper="3.4056" velocity="15.5"/>
  </joint>
  <link name="contact_1"/>
  <joint name="contact_1_joint" type="fixed">
    <origin xyz="0.03 -0.35 0.03" rpy="-1.57 0.0 0.785"/>
    <parent link="knee_pitch_1_link"/>
    <child link="contact_1"/>
  </joint>
  <link name="hip_roll_2_link">
    <inertial>
      <origin xyz="-0.00048748556 0.006340927 -0.11484611" rpy="0 0 0"/>
      <mass value="2.7479472"/>
      <inertia ixx="0.014719608" ixy="-1.1262382e-05" ixz="3.2414002000000004e-05" iyy="0.014797972999999999" iyz="-0.0017237369" izz="0.0049076886000000005"/>
    </inertial>
    <visual>
      <origin xyz="0.0 0.0 0.0" rpy="0.0 0.0 0.0"/>
      <geometry>
        <mesh filename="package://kyon_urdf/meshes/mesh_hip-roll.stl" scale="0.001 0.001 0.001"/>
      </geometry>
      <material name="dark_grey"/>
    </visual>
    <collision>
      <origin xyz="-1.1489706499999999e-05 0.010964129999999999 -0.05126425" rpy="2.9563474869158153 0.00015503213458274907 0.0016690152918816172"/>
      <geometry>
        <cylinder radius="0.0763481" length="0.1402469697370549"/>
      </geometry>
    </collision>
    <collision>
      <origin xyz="-0.000022 0.023880 0.017660" rpy="2.9563474869158153 0.00015503213458274907 0.0016690152918816172"/>
      <geometry>
        <sphere radius="0.0763481"/>
      </geometry>
    </collision>
    <collision>
      <origin xyz="-0.000001 -0.001952 -0.120188" rpy="2.9563474869158153 0.00015503213458274907 0.0016690152918816172"/>
      <geometry>
        <sphere radius="0.0763481"/>
      </geometry>
    </collision>
  </link>
  <link name="hip_pitch_2_link">
    <inertial>
      <origin xyz="6.4486994e-05 -0.07812755900000001 0.14684759" rpy="0 0 0"/>
      <mass value="6.6449096"/>
      <inertia ixx="0.12473066999999999" ixy="-0.00067511845" ixz="-5.384152799999999e-05" iyy="0.034322669" iyz="0.028582838" izz="0.10356313"/>
    </inertial>
    <visual>
      <origin xyz="0.0 0.0 0.0" rpy="0.0 0.0 0.0"/>
      <geometry>
        <mesh filename="package://kyon_urdf/meshes/mesh_hip-pitch.stl" scale="0.001 0.001 0.001"/>
      </geometry>
      <material name="dark_grey"/>
    </visual>
    <collision>
      <origin xyz="-3.8061e-07 -0.14606180885 0.180727" rpy="1.3362939787236954 -3.8319729173634345e-06 -3.0243559193574446e-06"/>
      <geometry>
        <cylinder radius="0.110589" length="0.3004661110170414"/>
      </geometry>
    </collision>
    <collision>
      <origin xyz="0.000000 0.000059 0.145819" rpy="1.3362939787236954 -3.8319729173634345e-06 -3.0243559193574446e-06"/>
      <geometry>
        <sphere radius="0.110589"/>
      </geometry>
    </collision>
    <collision>
      <origin xyz="-0.000001 -0.292183 0.215635" rpy="1.3362939787236954 -3.8319729173634345e-06 -3.0243559193574446e-06"/>
      <geometry>
        <sphere radius="0.110589"/>
      </geometry>
    </collision>
  </link>
  <joint name="hip_roll_2" type="revolute">
    <origin xyz="0.41100000000000003 -0.0775 0.0" rpy="0.0 1.57079632679 0.0"/>
    <axis xyz="0.0 0.0 1.0"/>
    <parent link="pelvis"/>
    <child link="hip_roll_2_link"/>
    <limit effort="132.0" lower="-2.51" upper="2.03" velocity="15.5"/>
  </joint>
  <joint name="hip_pitch_2" type="revolute">
    <origin xyz="0.0 0.04746 0.0" rpy="0.0 -1.57079632679 1.57079632679"/>
    <axis xyz="0.0 0.0 1.0"/>
    <parent link="hip_roll_2_link"/>
    <child link="hip_pitch_2_link"/>
    <limit effort="132.0" lower="-2.3266" upper="2.3266" velocity="15.5"/>
  </joint>
  <link name="knee_pitch_2_link">
    <inertial>
      <origin xyz="5.1193011000000004e-06 -0.10291594999999999 -0.0012895495" rpy="0 0 0"/>
      <mass value="0.70900216"/>
      <inertia ixx="0.012517512" ixy="-5.4385779e-07" ixz="1.4538899e-07" iyy="0.00080474409" iyz="0.001744629" izz="0.01230702"/>
    </inertial>
    <visual>
      <origin xyz="0.0 0.0 0.0" rpy="0.0 0.0 0.0"/>
      <geometry>
        <mesh filename="package://kyon_urdf/meshes/mesh_foot-leg.stl" scale="0.001 0.001 0.001"/>
      </geometry>
      <material name="dark_grey"/>
    </visual>
    <collision>
      <origin xyz="1.557224e-05 -0.158173015 0.016939799999999998" rpy="-1.6076382764744825 0.00011824965830571265 -0.00012268847568865435"/>
      <geometry>
        <cylinder radius="0.0400971" length="0.3150057312682306"/>
      </geometry>
    </collision>
    <collision>
      <origin xyz="-0.000003 -0.315569 0.022741" rpy="-1.6076382764744825 0.00011824965830571265 -0.00012268847568865435"/>
      <geometry>
        <sphere radius="0.0400971"/>
      </geometry>
    </collision>
    <collision>
      <origin xyz="0.000034 -0.000777 0.011138" rpy="-1.6076382764744825 0.00011824965830571265 -0.00012268847568865435"/>
      <geometry>
        <sphere radius="0.0400971"/>
      </geometry>
    </collision>
  </link>
  <joint name="knee_pitch_2" type="revolute">
    <origin xyz="0.0 -0.34600000000000003 0.24606" rpy="0.0 0.0 0.0"/>
    <axis xyz="0.0 0.0 1.0"/>
    <parent link="hip_pitch_2_link"/>
    <child link="knee_pitch_2_link"/>
    <limit effort="132.0" lower="-3.3266" upper="3.3266" velocity="15.5"/>
  </joint>
  <link name="contact_2"/>
  <joint name="contact_2_joint" type="fixed">
    <origin xyz="-0.03 -0.35 0.03" rpy="1.57 0.0 2.356"/>
    <parent link="knee_pitch_2_link"/>
    <child link="contact_2"/>
  </joint>
  <link name="hip_roll_3_link">
    <inertial>
      <origin xyz="-0.00048748556 0.006340927 -0.11484611" rpy="0 0 0"/>
      <mass value="2.7479472"/>
      <inertia ixx="0.014719608" ixy="1.1262382e-05" ixz="3.2414002000000004e-05" iyy="0.014797972999999999" iyz="0.0017237369" izz="0.0049076886000000005"/>
    </inertial>
    <visual>
      <origin xyz="0.0 0.0 0.0" rpy="0.0 0.0 0.0"/>
      <geometry>
        <mesh filename="package://kyon_urdf/meshes/mesh_hip-roll.stl" scale="0.001 -0.001 0.001"/>
      </geometry>
      <material name="dark_grey"/>
    </visual>
    <collision>
      <origin xyz="-1.1489703999999999e-05 -0.010964129999999999 -0.05126425" rpy="0.18524516667397833 -0.00015503217023414293 -1.4400684591584316e-05"/>
      <geometry>
        <cylinder radius="0.0763481" length="0.14024696973705567"/>
      </geometry>
    </collision>
    <collision>
      <origin xyz="-0.000001 0.001952 -0.120188" rpy="0.18524516667397833 -0.00015503217023414293 -1.4400684591584316e-05"/>
      <geometry>
        <sphere radius="0.0763481"/>
      </geometry>
    </collision>
    <collision>
      <origin xyz="-0.000022 -0.023880 0.017660" rpy="0.18524516667397833 -0.00015503217023414293 -1.4400684591584316e-05"/>
      <geometry>
        <sphere radius="0.0763481"/>
      </geometry>
    </collision>
  </link>
  <link name="hip_pitch_3_link">
    <inertial>
      <origin xyz="6.4486994e-05 -0.07812755900000001 0.14684759" rpy="0 0 0"/>
      <mass value="6.6449096"/>
      <inertia ixx="0.12473066999999999" ixy="-0.00067511845" ixz="-5.384152799999999e-05" iyy="0.034322669" iyz="0.028582838" izz="0.10356313"/>
    </inertial>
    <visual>
      <origin xyz="0.0 0.0 0.0" rpy="0.0 0.0 0.0"/>
      <geometry>
        <mesh filename="package://kyon_urdf/meshes/mesh_hip-pitch.stl" scale="0.001 0.001 0.001"/>
      </geometry>
      <material name="dark_grey"/>
    </visual>
    <collision>
      <origin xyz="-3.8061e-07 -0.14606180885 0.180727" rpy="1.3362939787236954 -3.8319729173634345e-06 -3.0243559193574446e-06"/>
      <geometry>
        <cylinder radius="0.110589" length="0.3004661110170414"/>
      </geometry>
    </collision>
    <collision>
      <origin xyz="0.000000 0.000059 0.145819" rpy="1.3362939787236954 -3.8319729173634345e-06 -3.0243559193574446e-06"/>
      <geometry>
        <sphere radius="0.110589"/>
      </geometry>
    </collision>
    <collision>
      <origin xyz="-0.000001 -0.292183 0.215635" rpy="1.3362939787236954 -3.8319729173634345e-06 -3.0243559193574446e-06"/>
      <geometry>
        <sphere radius="0.110589"/>
      </geometry>
    </collision>
  </link>
  <joint name="hip_roll_3" type="revolute">
    <origin xyz="-0.41100000000000003 0.0775 0.0" rpy="0.0 -1.57079632679 0.0"/>
    <axis xyz="0.0 0.0 1.0"/>
    <parent link="pelvis"/>
    <child link="hip_roll_3_link"/>
    <limit effort="132.0" lower="-2.51" upper="2.03" velocity="15.5"/>
  </joint>
  <joint name="hip_pitch_3" type="revolute">
    <origin xyz="0.0 -0.04746 0.0" rpy="0.0 -1.57079632679 -1.57079632679"/>
    <axis xyz="0.0 0.0 1.0"/>
    <parent link="hip_roll_3_link"/>
    <child link="hip_pitch_3_link"/>
    <limit effort="132.0" lower="-2.4696" upper="2.4696" velocity="15.5"/>
  </joint>
  <link name="knee_pitch_3_link">
    <inertial>
      <origin xyz="5.1193011000000004e-06 -0.10291594999999999 -0.0012895495" rpy="0 0 0"/>
      <mass value="0.70900216"/>
      <inertia ixx="0.012517512" ixy="5.4385779e-07" ixz="-1.4538899e-07" iyy="0.00080474409" iyz="0.001744629" izz="0.01230702"/>
    </inertial>
    <visual>
      <origin xyz="0.0 0.0 0.0" rpy="0.0 0.0 0.0"/>
      <geometry>
        <mesh filename="package://kyon_urdf/meshes/mesh_foot-leg.stl" scale="-0.001 0.001 0.001"/>
      </geometry>
      <material name="dark_grey"/>
    </visual>
    <collision>
      <origin xyz="-1.557224e-05 -0.158173015 0.016939799999999998" rpy="1.5339543771153108 0.00011824965830571266 0.00011397143546565672"/>
      <geometry>
        <cylinder radius="0.0400971" length="0.3150057312682306"/>
      </geometry>
    </collision>
    <collision>
      <origin xyz="-0.000034 -0.000777 0.011138" rpy="1.5339543771153108 0.00011824965830571266 0.00011397143546565672"/>
      <geometry>
        <sphere radius="0.0400971"/>
      </geometry>
    </collision>
    <collision>
      <origin xyz="0.000003 -0.315569 0.022741" rpy="1.5339543771153108 0.00011824965830571266 0.00011397143546565672"/>
      <geometry>
        <sphere radius="0.0400971"/>
      </geometry>
    </collision>
  </link>
  <joint name="knee_pitch_3" type="revolute">
    <origin xyz="0.0 -0.34600000000000003 0.24606" rpy="0.0 0.0 0.0"/>
    <axis xyz="0.0 0.0 1.0"/>
    <parent link="hip_pitch_3_link"/>
    <child link="knee_pitch_3_link"/>
    <limit effort="132.0" lower="-3.4696" upper="3.4696" velocity="15.5"/>
  </joint>
  <link name="contact_3"/>
  <joint name="contact_3_joint" type="fixed">
    <origin xyz="0.03 -0.35 0.03" rpy="-1.57 0.0 0.785"/>
    <parent link="knee_pitch_3_link"/>
    <child link="contact_3"/>
  </joint>
  <link name="hip_roll_4_link">
    <inertial>
      <origin xyz="-0.00048748556 0.006340927 -0.11484611" rpy="0 0 0"/>
      <mass value="2.7479472"/>
      <inertia ixx="0.014719608" ixy="-1.1262382e-05" ixz="3.2414002000000004e-05" iyy="0.014797972999999999" iyz="-0.0017237369" izz="0.0049076886000000005"/>
    </inertial>
    <visual>
      <origin xyz="0.0 0.0 0.0" rpy="0.0 0.0 0.0"/>
      <geometry>
        <mesh filename="package://kyon_urdf/meshes/mesh_hip-roll.stl" scale="0.001 0.001 0.001"/>
      </geometry>
      <material name="dark_grey"/>
    </visual>
    <collision>
      <origin xyz="-1.1489706499999999e-05 0.010964129999999999 -0.05126425" rpy="2.9563474869158153 0.00015503213458274907 0.0016690152918816172"/>
      <geometry>
        <cylinder radius="0.0763481" length="0.1402469697370549"/>
      </geometry>
    </collision>
    <collision>
      <origin xyz="-0.000022 0.023880 0.017660" rpy="2.9563474869158153 0.00015503213458274907 0.0016690152918816172"/>
      <geometry>
        <sphere radius="0.0763481"/>
      </geometry>
    </collision>
    <collision>
      <origin xyz="-0.000001 -0.001952 -0.120188" rpy="2.9563474869158153 0.00015503213458274907 0.0016690152918816172"/>
      <geometry>
        <sphere radius="0.0763481"/>
      </geometry>
    </collision>
  </link>
  <link name="hip_pitch_4_link">
    <inertial>
      <origin xyz="6.4486994e-05 -0.07812755900000001 0.14684759" rpy="0 0 0"/>
      <mass value="6.6449096"/>
      <inertia ixx="0.12473066999999999" ixy="-0.00067511845" ixz="-5.384152799999999e-05" iyy="0.034322669" iyz="0.028582838" izz="0.10356313"/>
    </inertial>
    <visual>
      <origin xyz="0.0 0.0 0.0" rpy="0.0 0.0 0.0"/>
      <geometry>
        <mesh filename="package://kyon_urdf/meshes/mesh_hip-pitch.stl" scale="0.001 0.001 0.001"/>
      </geometry>
      <material name="dark_grey"/>
    </visual>
    <collision>
      <origin xyz="-3.8061e-07 -0.14606180885 0.180727" rpy="1.3362939787236954 -3.8319729173634345e-06 -3.0243559193574446e-06"/>
      <geometry>
        <cylinder radius="0.110589" length="0.3004661110170414"/>
      </geometry>
    </collision>
    <collision>
      <origin xyz="0.000000 0.000059 0.145819" rpy="1.3362939787236954 -3.8319729173634345e-06 -3.0243559193574446e-06"/>
      <geometry>
        <sphere radius="0.110589"/>
      </geometry>
    </collision>
    <collision>
      <origin xyz="-0.000001 -0.292183 0.215635" rpy="1.3362939787236954 -3.8319729173634345e-06 -3.0243559193574446e-06"/>
      <geometry>
        <sphere radius="0.110589"/>
      </geometry>
    </collision>
  </link>
  <joint name="hip_roll_4" type="revolute">
    <origin xyz="-0.41100000000000003 -0.0775 0.0" rpy="0.0 -1.57079632679 0.0"/>
    <axis xyz="0.0 0.0 1.0"/>
    <parent link="pelvis"/>
    <child link="hip_roll_4_link"/>
    <limit effort="132.0" lower="-2.03" upper="2.51" velocity="15.5"/>
  </joint>
  <joint name="hip_pitch_4" type="revolute">
    <origin xyz="0.0 0.04746 0.0" rpy="0.0 1.57079632679 -1.57079632679"/>
    <axis xyz="0.0 0.0 1.0"/>
    <parent link="hip_roll_4_link"/>
    <child link="hip_pitch_4_link"/>
    <limit effort="132.0" lower="-2.3426" upper="2.3426" velocity="15.5"/>
  </joint>
  <link name="knee_pitch_4_link">
    <inertial>
      <origin xyz="5.1193011000000004e-06 -0.10291594999999999 -0.0012895495" rpy="0 0 0"/>
      <mass value="0.70900216"/>
      <inertia ixx="0.012517512" ixy="-5.4385779e-07" ixz="1.4538899e-07" iyy="0.00080474409" iyz="0.001744629" izz="0.01230702"/>
    </inertial>
    <visual>
      <origin xyz="0.0 0.0 0.0" rpy="0.0 0.0 0.0"/>
      <geometry>
        <mesh filename="package://kyon_urdf/meshes/mesh_foot-leg.stl" scale="0.001 0.001 0.001"/>
      </geometry>
      <material name="dark_grey"/>
    </visual>
    <collision>
      <origin xyz="1.557224e-05 -0.158173015 0.016939799999999998" rpy="-1.6076382764744825 0.00011824965830571265 -0.00012268847568865435"/>
      <geometry>
        <cylinder radius="0.0400971" length="0.3150057312682306"/>
      </geometry>
    </collision>
    <collision>
      <origin xyz="-0.000003 -0.315569 0.022741" rpy="-1.6076382764744825 0.00011824965830571265 -0.00012268847568865435"/>
      <geometry>
        <sphere radius="0.0400971"/>
      </geometry>
    </collision>
    <collision>
      <origin xyz="0.000034 -0.000777 0.011138" rpy="-1.6076382764744825 0.00011824965830571265 -0.00012268847568865435"/>
      <geometry>
        <sphere radius="0.0400971"/>
      </geometry>
    </collision>
  </link>
  <joint name="knee_pitch_4" type="revolute">
    <origin xyz="0.0 -0.34600000000000003 0.24606" rpy="0.0 0.0 0.0"/>
    <axis xyz="0.0 0.0 1.0"/>
    <parent link="hip_pitch_4_link"/>
    <child link="knee_pitch_4_link"/>
    <limit effort="132.0" lower="-3.3426" upper="3.3426" velocity="15.5"/>
  </joint>
  <link name="contact_4"/>
  <joint name="contact_4_joint" type="fixed">
    <origin xyz="-0.03 -0.35 0.03" rpy="1.57 0.0 2.356"/>
    <parent link="knee_pitch_4_link"/>
    <child link="contact_4"/>
  </joint>
  <link name="world"/>
  <joint name="reference" type="floating">
    <parent link="world"/>
    <child link="pelvis"/>
  </joint>
</robot>
